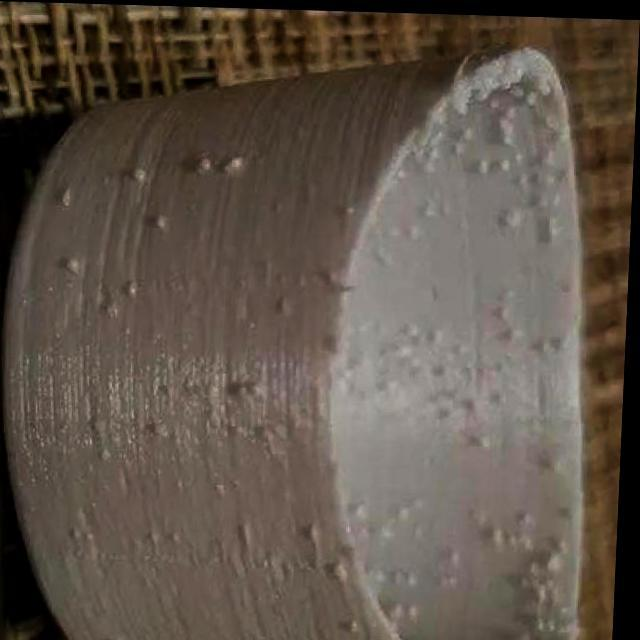zits: (544, 546, 576, 578), (190, 150, 223, 177), (66, 248, 92, 280), (150, 203, 177, 233), (306, 516, 331, 548), (102, 296, 135, 320), (58, 182, 82, 212), (224, 152, 250, 179), (132, 159, 156, 188), (507, 78, 530, 105), (433, 351, 456, 377), (476, 428, 502, 450), (123, 276, 147, 298), (334, 555, 356, 579), (468, 153, 493, 174), (492, 520, 512, 546), (278, 291, 300, 314), (406, 564, 429, 586), (452, 544, 473, 568), (250, 373, 268, 401), (152, 416, 180, 434), (552, 329, 573, 352), (503, 202, 527, 222), (348, 609, 367, 634), (340, 198, 362, 218), (489, 152, 512, 170), (494, 304, 516, 318), (508, 321, 523, 341)
